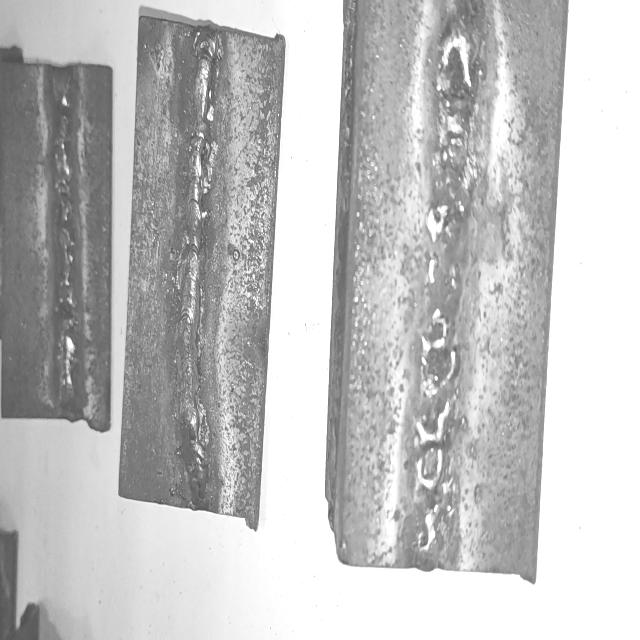Bad Weld: (51, 74, 78, 411)
Defect: (412, 14, 484, 552), (418, 29, 476, 564), (47, 79, 79, 403)
Good Weld: (176, 39, 224, 500)
